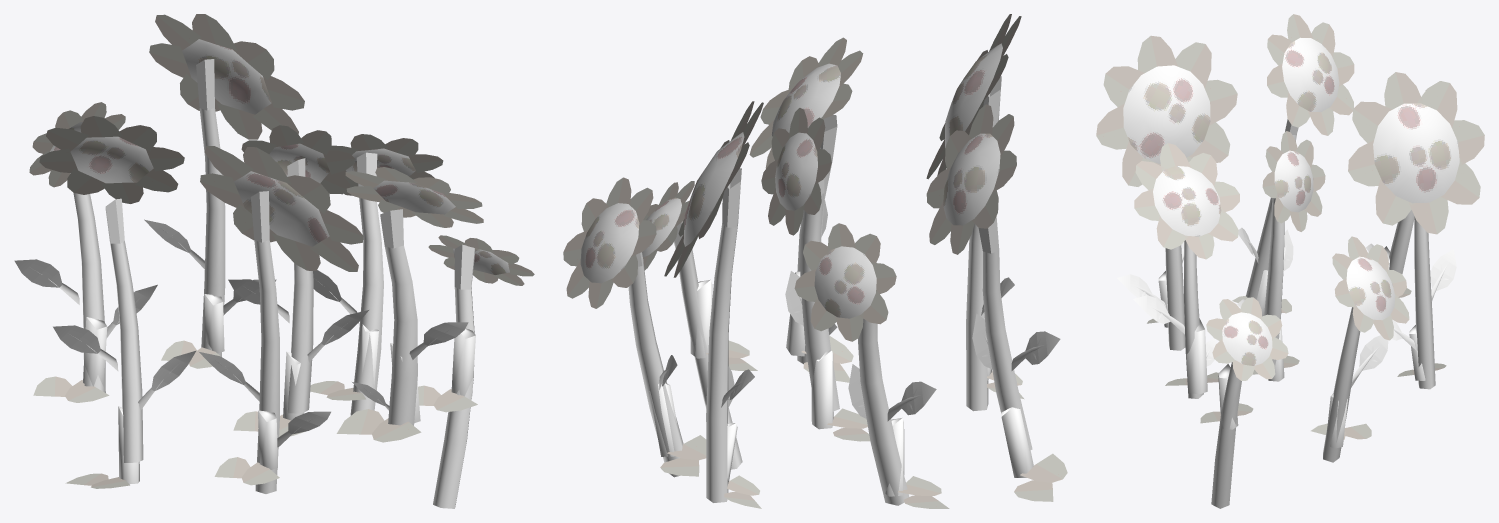
File: SunflowerPatch.fbx
The picture shows the model from 3 angles, left to right: view 1: azimuth 30°, elevation 25°; view 2: azimuth 150°, elevation 25°; view 3: azimuth 270°, elevation 25°; orthographic projection. The views are drawn at different scales.
Parts seen in each view (by area): view 1: SunflowerHead (×8), Sunflower (×8), SunflowerLeaf2 (×6), SunflowerLeaf1 (×4), SFRemains8, SFRemains5, SFRemains3, SFRemains4, SFRemains2, SFRemains7, SFRemains6, SFRemains1; view 2: SunflowerHead (×8), Sunflower (×8), SFRemains7, SFRemains1, SFRemains6, SunflowerLeaf2 (×2), SunflowerLeaf1 (×3), SFRemains5, SFRemains8, SFRemains2, SFRemains4; view 3: SunflowerHead (×7), Sunflower (×8), SunflowerLeaf2 (×2), SFRemains2, SunflowerLeaf1 (×2), SFRemains6, SFRemains8, SFRemains4, SFRemains7.
Part boxes in pixels (box(x1,y1,x2,y2)): SunflowerHead (×8): box(29, 14, 534, 285); Sunflower (×8): box(70, 59, 474, 508); SunflowerLeaf2 (×6): box(14, 219, 358, 401); SunflowerLeaf1 (×4): box(138, 310, 468, 447); SFRemains8: box(418, 328, 477, 412); SFRemains5: box(33, 317, 109, 402); SFRemains3: box(214, 410, 279, 485); SFRemains4: box(161, 294, 224, 368); SFRemains2: box(336, 343, 421, 442); SFRemains7: box(65, 406, 139, 488); SFRemains6: box(310, 324, 378, 400); SFRemains1: box(233, 351, 304, 436); SunflowerHead (×8): box(563, 14, 1021, 341); Sunflower (×8): box(628, 76, 1032, 505); SFRemains7: box(1001, 407, 1067, 501); SFRemains1: box(811, 350, 870, 441); SFRemains6: box(649, 383, 706, 476); SunflowerLeaf2 (×2): box(887, 331, 1060, 421); SunflowerLeaf1 (×3): box(785, 271, 992, 418); SFRemains5: box(885, 418, 949, 508); SFRemains8: box(690, 279, 757, 370); SFRemains2: box(786, 271, 853, 382); SFRemains4: box(724, 423, 761, 508); SunflowerHead (×7): box(1096, 14, 1484, 380); Sunflower (×8): box(1165, 119, 1435, 508); SunflowerLeaf2 (×2): box(1351, 249, 1456, 387); SFRemains2: box(1165, 318, 1218, 394); SunflowerLeaf1 (×2): box(1117, 274, 1184, 334); SFRemains6: box(1311, 393, 1371, 448); SFRemains8: box(1200, 364, 1253, 429); SFRemains4: box(1397, 325, 1446, 380); SFRemains7: box(1232, 270, 1291, 316).
Size of what is drawn, in the model's own units: 1.63 by 1.59 by 1.49.
